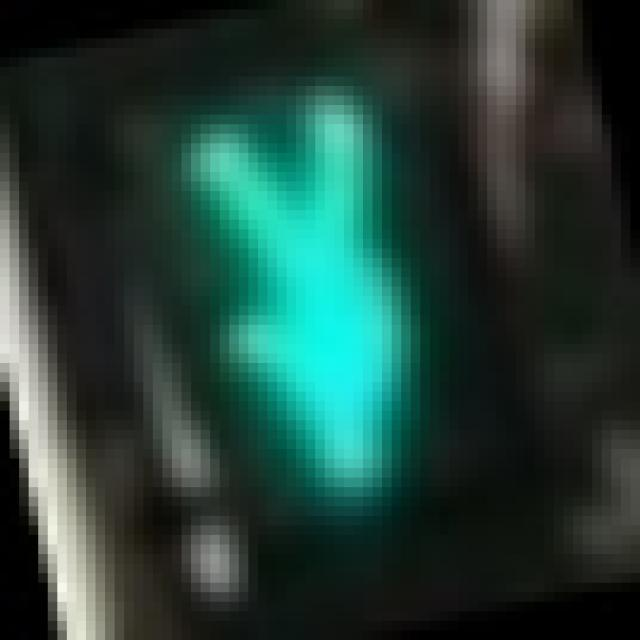green_light: (172, 76, 458, 535)
